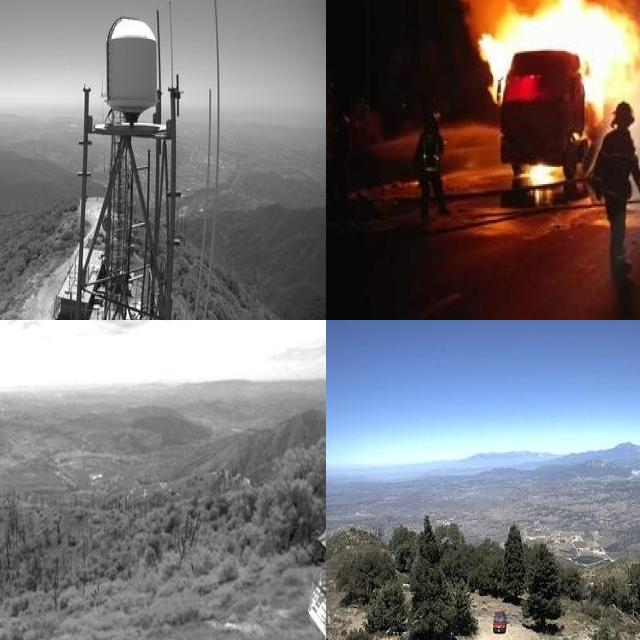fire: (483, 0, 636, 110)
smoke: (623, 455, 640, 481)
